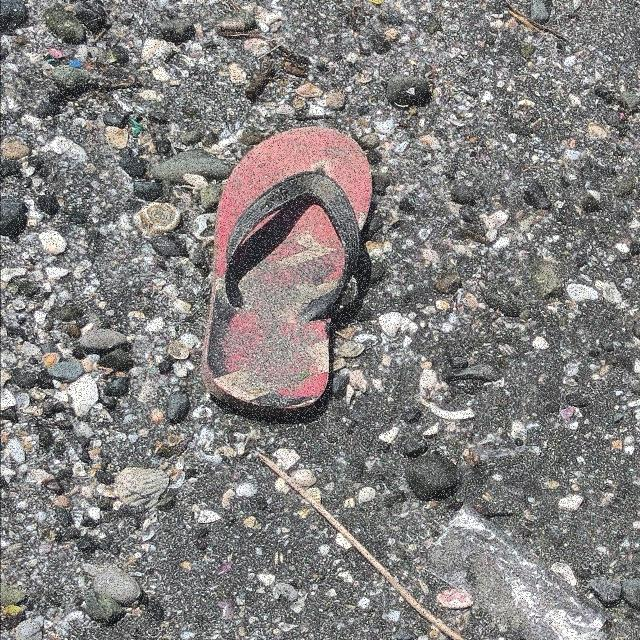rubber_waste: (202, 127, 373, 425)
